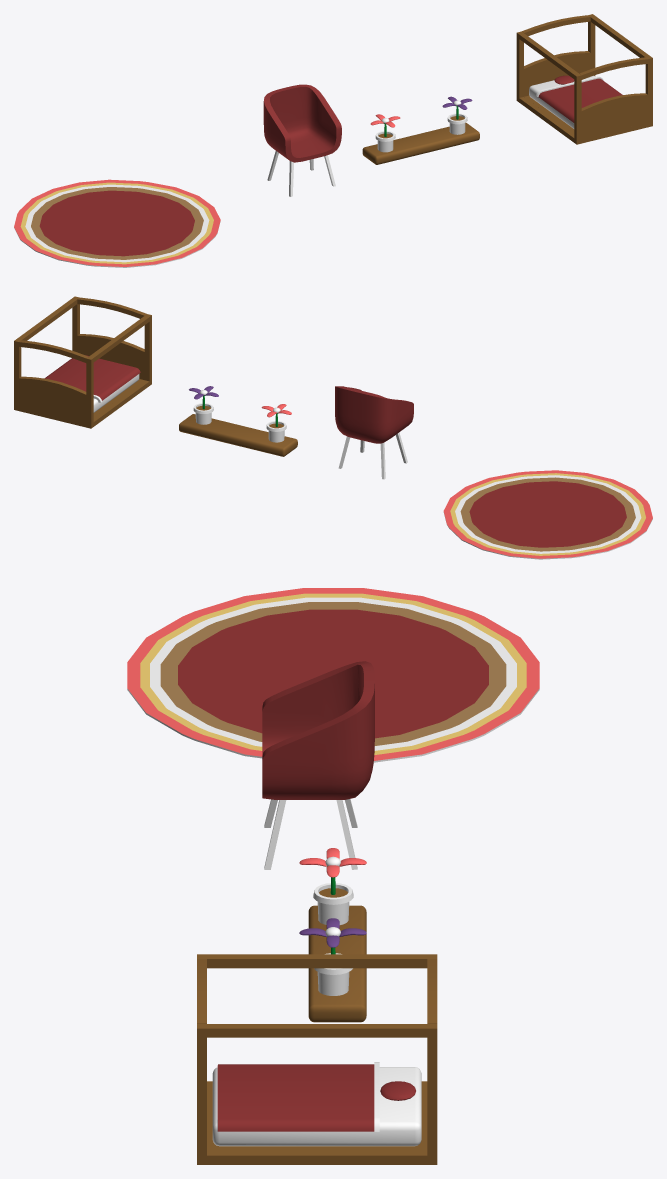
Rendered from Bedroom props.fbx.
3 views of the same model, one above another, from view 1: azimuth 30°, elevation 25°; view 2: azimuth 150°, elevation 25°; view 3: azimuth 270°, elevation 25° (orthographic). The views are drawn at different scales.
Parts seen in each view (by area): view 1: rug, Cat bed, Chair, wall wood, Flower.1, Flower.002; view 2: rug, Cat bed, Chair, wall wood, Flower.1, Flower.002; view 3: rug, Cat bed, Chair, wall wood, Flower.1, Flower.002.
Part boxes in pixels (bbox=[...]): rug: bbox=[14, 179, 220, 267]; Cat bed: bbox=[516, 14, 652, 144]; Chair: bbox=[263, 84, 341, 196]; wall wood: bbox=[362, 122, 479, 164]; Flower.1: bbox=[370, 114, 400, 152]; Flower.002: bbox=[442, 96, 472, 134]; rug: bbox=[443, 470, 652, 559]; Cat bed: bbox=[14, 296, 151, 428]; Chair: bbox=[335, 386, 413, 479]; wall wood: bbox=[179, 414, 297, 456]; Flower.1: bbox=[261, 404, 291, 442]; Flower.002: bbox=[189, 386, 218, 424]; rug: bbox=[127, 588, 539, 762]; Cat bed: bbox=[197, 954, 437, 1164]; Chair: bbox=[262, 661, 374, 869]; wall wood: bbox=[308, 905, 366, 1022]; Flower.1: bbox=[299, 848, 366, 924]; Flower.002: bbox=[299, 918, 366, 995].
Bounding box in the file's own units: 1.51 × 0.2095 × 0.4577.
1 material, 1 textured.
